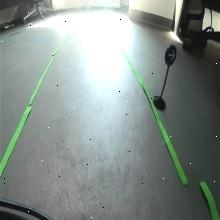right: (165, 43, 177, 68)
